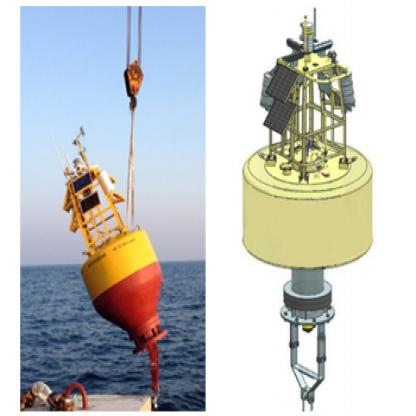buoy: (38, 120, 174, 316)
